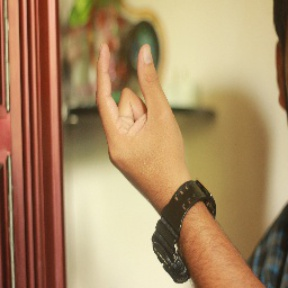U: (91, 36, 186, 186)
